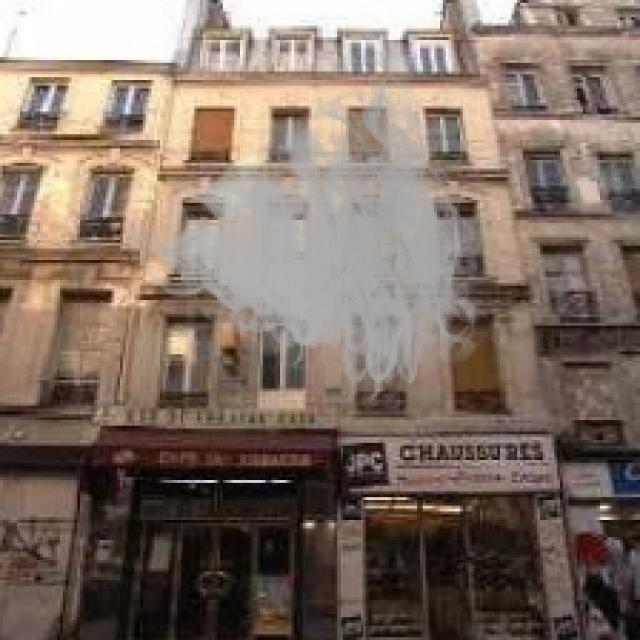smoke: (129, 43, 500, 417)
